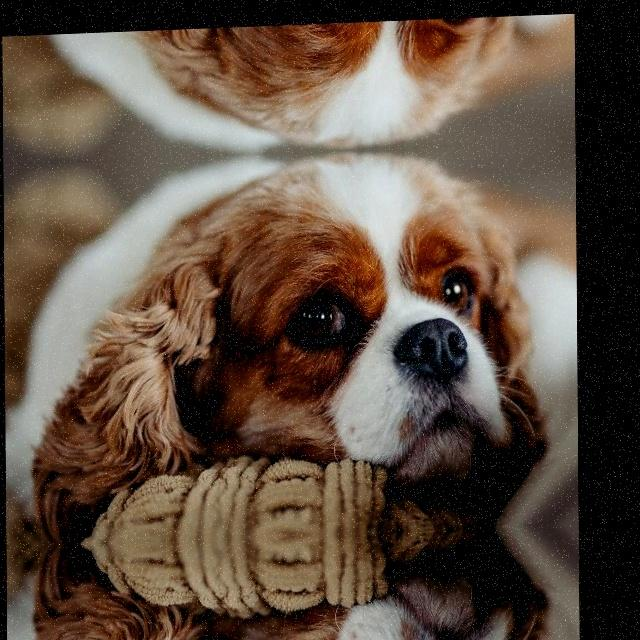dog: (108, 143, 545, 506), (108, 15, 542, 157), (112, 559, 547, 640)
